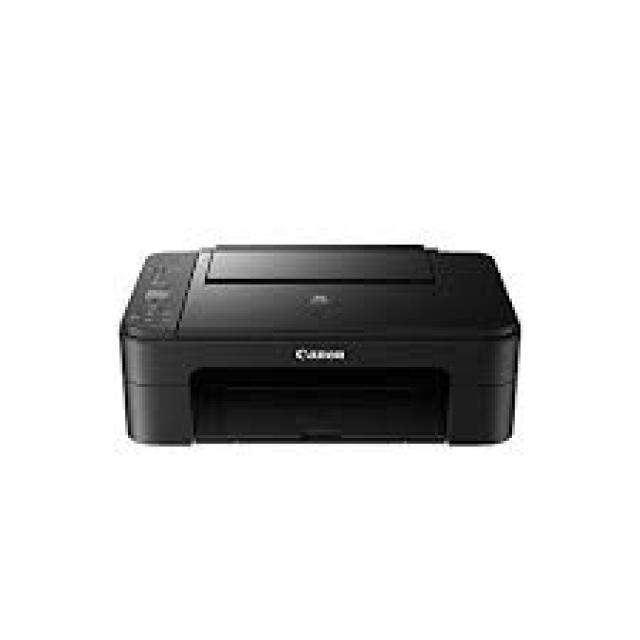printer: (117, 242, 520, 446)
